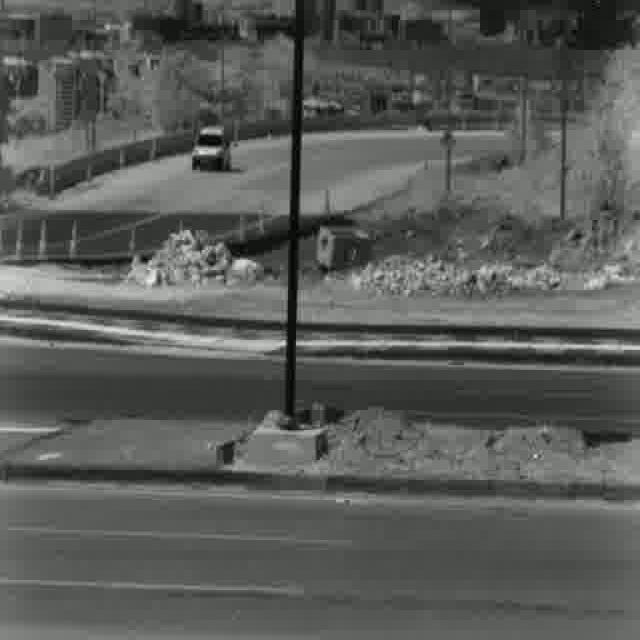Car: (190, 124, 233, 171)
